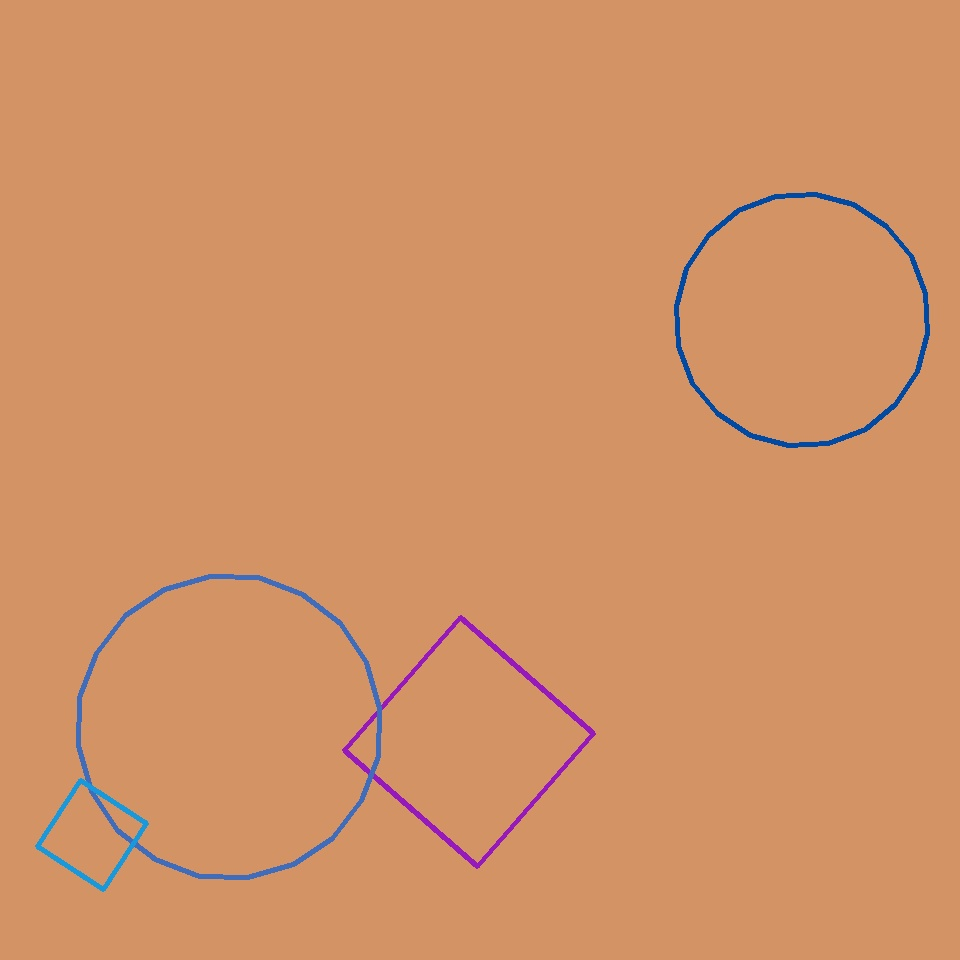square: (344, 618, 594, 866), (38, 780, 146, 890)
triangle: (79, 576, 380, 878), (676, 194, 928, 446)
